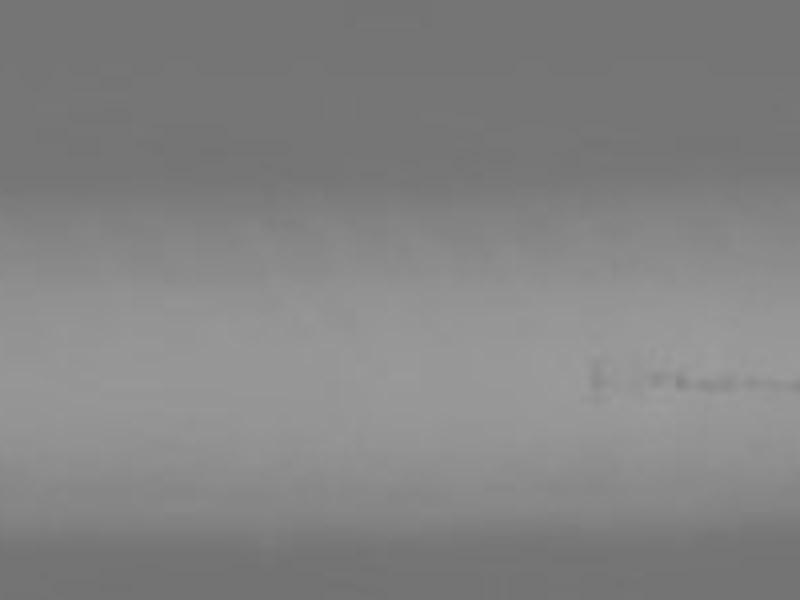defect: (586, 360, 611, 389), (647, 365, 668, 387), (772, 377, 800, 392), (717, 370, 736, 392), (744, 371, 765, 388), (674, 370, 690, 391), (694, 377, 714, 392)
